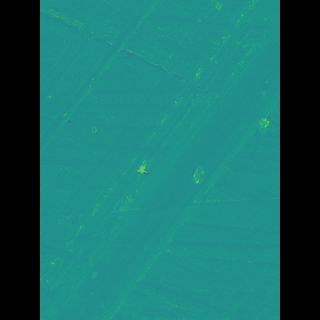Loch: (71, 16, 250, 320), (68, 0, 159, 144)
